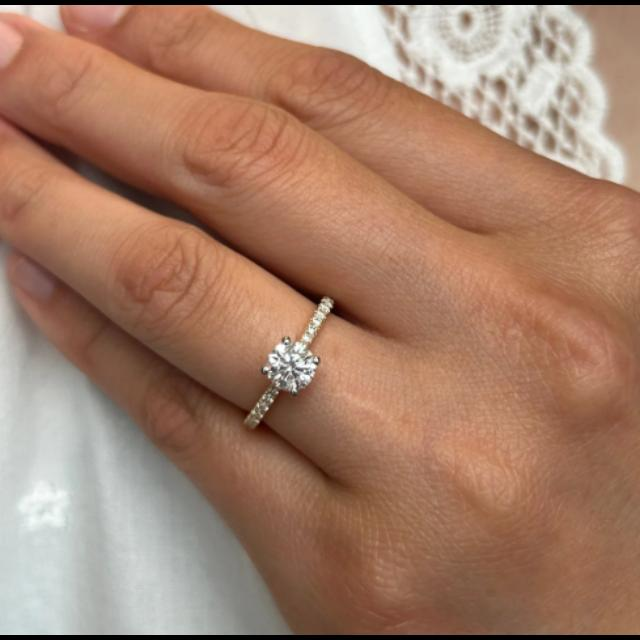ring: (243, 296, 334, 436)
